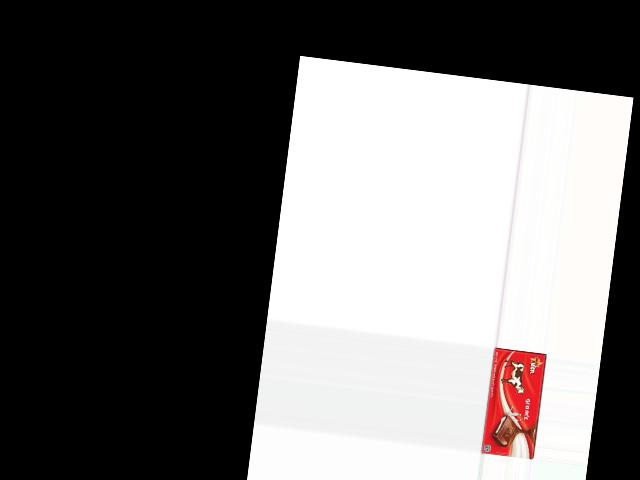chocolate: (480, 345, 546, 459)
